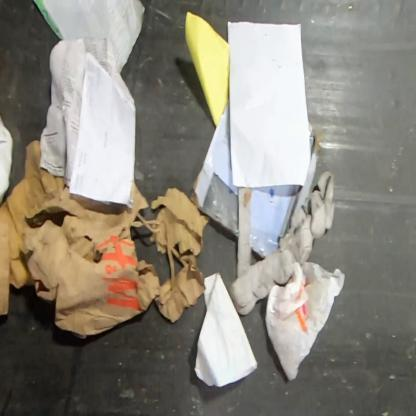cardboard: (229, 168, 336, 317), (0, 138, 66, 317), (249, 121, 324, 258), (190, 97, 238, 239)
soft_plastic: (264, 260, 346, 383)
